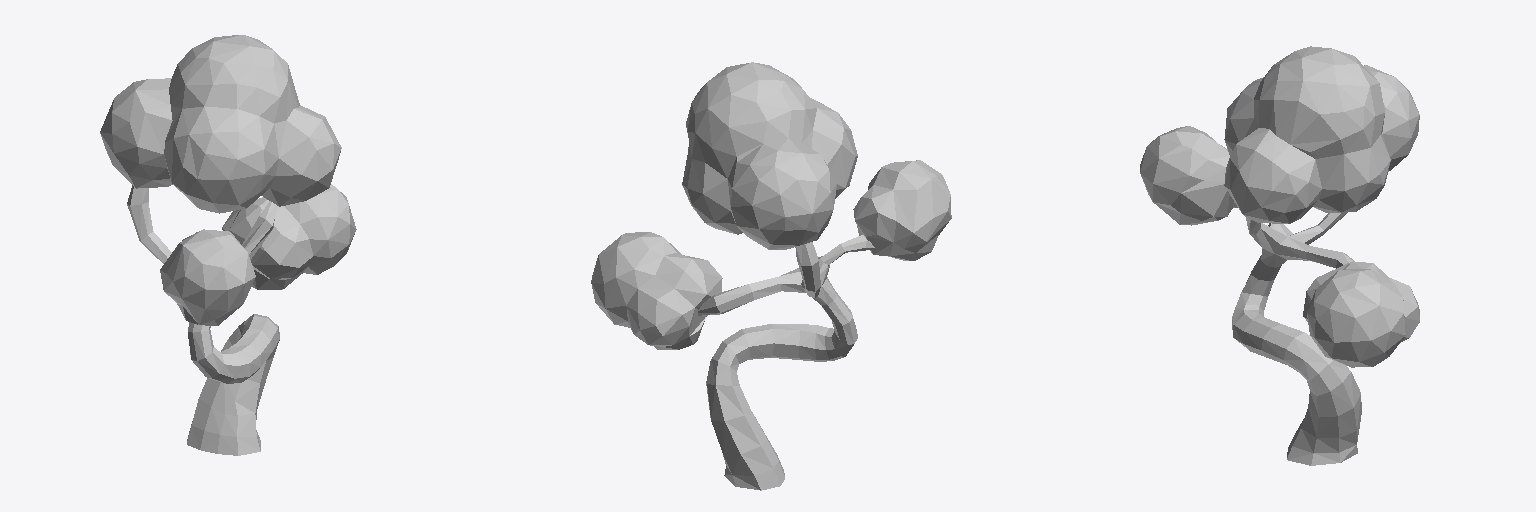
The model's file is tree-full.obj.
3 views of the same model, side by side, from view 1: azimuth 30°, elevation 25°; view 2: azimuth 150°, elevation 25°; view 3: azimuth 270°, elevation 25° (orthographic).
Parts seen in each view (by area): view 1: LowPoly_Tree_06_lowpoly_tree_02_Mesh.005; view 2: LowPoly_Tree_06_lowpoly_tree_02_Mesh.005; view 3: LowPoly_Tree_06_lowpoly_tree_02_Mesh.005.
Part boxes in pixels (x1,y1,x2,y2): LowPoly_Tree_06_lowpoly_tree_02_Mesh.005: (100,35,356,455); LowPoly_Tree_06_lowpoly_tree_02_Mesh.005: (591,62,951,490); LowPoly_Tree_06_lowpoly_tree_02_Mesh.005: (1140,46,1419,465).
Size of the model in its own units: 2.55 by 3.72 by 2.36.